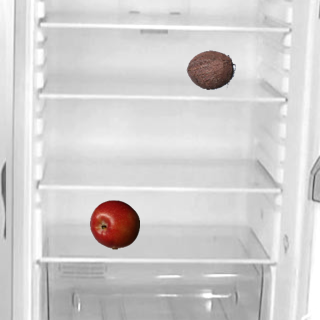Apple Braeburn: (89, 199, 139, 249)
Cocos: (185, 44, 235, 94)
